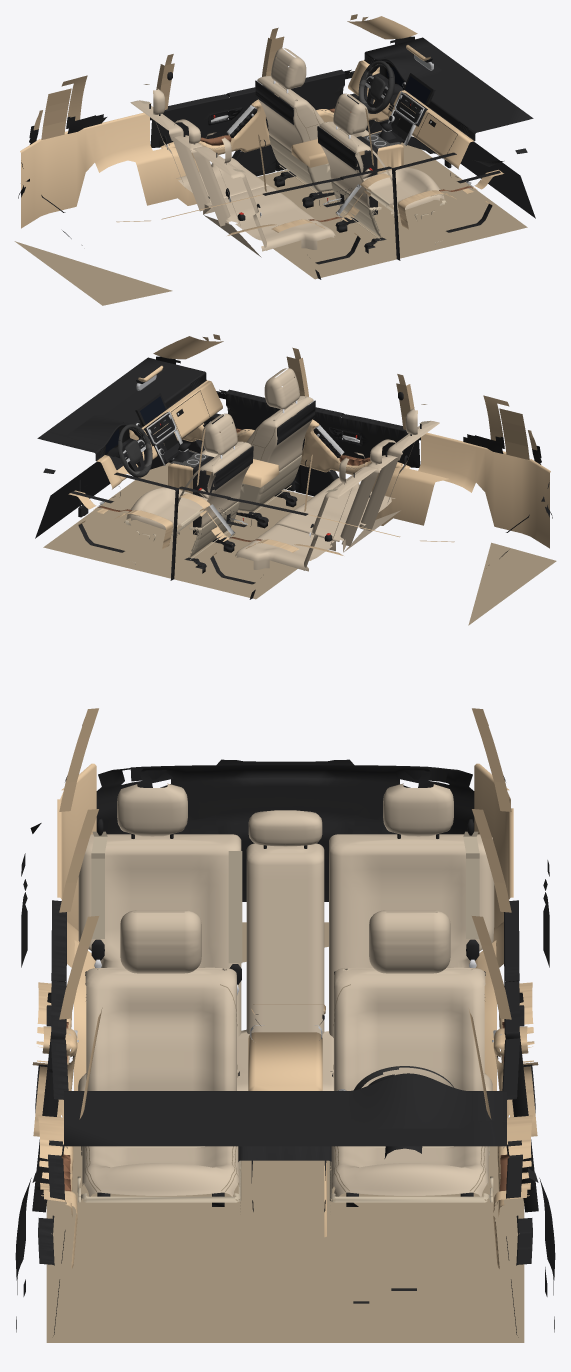
The model's file is cabin_lod0.glb.
3 renders of one model, top to bottom at view 1: azimuth 30°, elevation 25°; view 2: azimuth 150°, elevation 25°; view 3: azimuth 270°, elevation 25°, orthographic. The views are drawn at different scales.
Visible parts, largest first — view 1: cabin; view 2: cabin; view 3: cabin.
Part boxes in pixels (x1,y1,x2,y2): cabin: (14,14,535,305); cabin: (35,334,556,625); cabin: (15,708,555,1342).
Size of the model in its own units: 3.53 by 1.21 by 1.89.
Materials: 1 (1 with a texture image).
